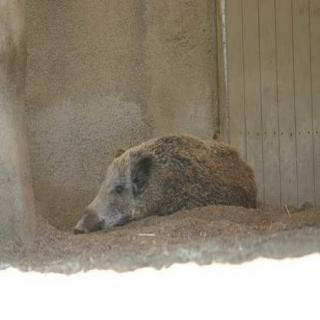Pig: (75, 107, 304, 251)
